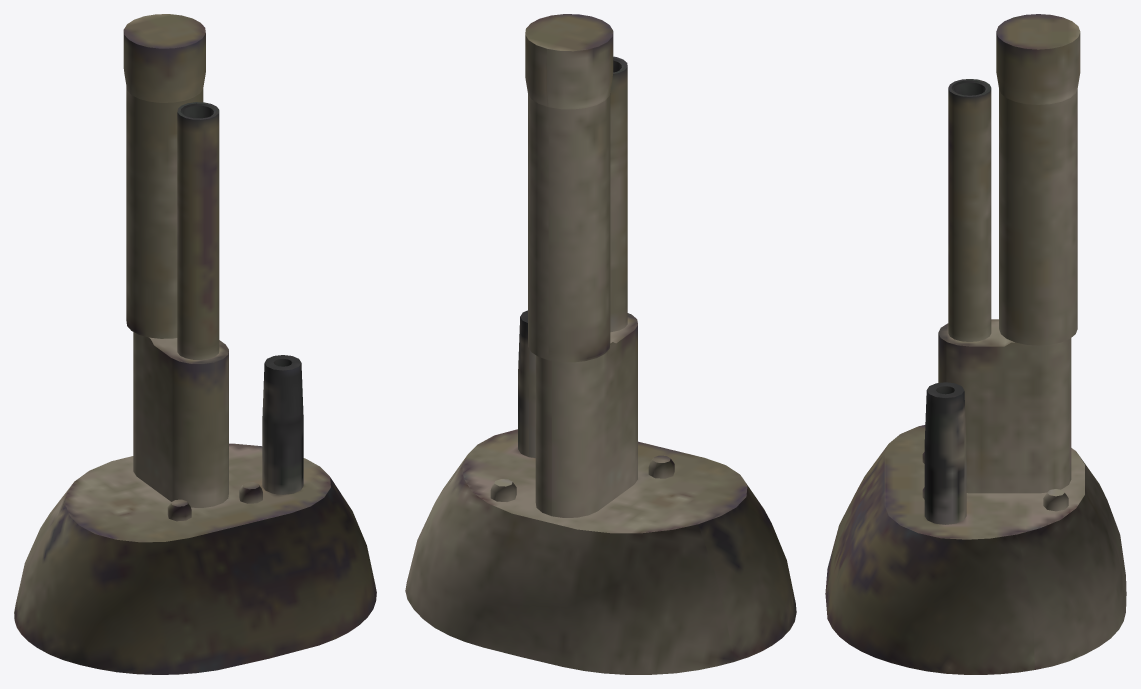
File: Gun_01.glb
3 renders of one model, left to right at view 1: azimuth 30°, elevation 25°; view 2: azimuth 150°, elevation 25°; view 3: azimuth 270°, elevation 25°, orthographic. The views are drawn at different scales.
Visible parts, largest first — view 1: set_0_group_0; view 2: set_0_group_0; view 3: set_0_group_0.
Boxes of the visible parts, bbox=[...] form: set_0_group_0: bbox=[14, 14, 376, 674]; set_0_group_0: bbox=[405, 14, 796, 674]; set_0_group_0: bbox=[825, 14, 1126, 674].
Bounding box in the file's own units: 0.444 × 0.7168 × 0.3481.
Materials: 1 (1 with a texture image).
